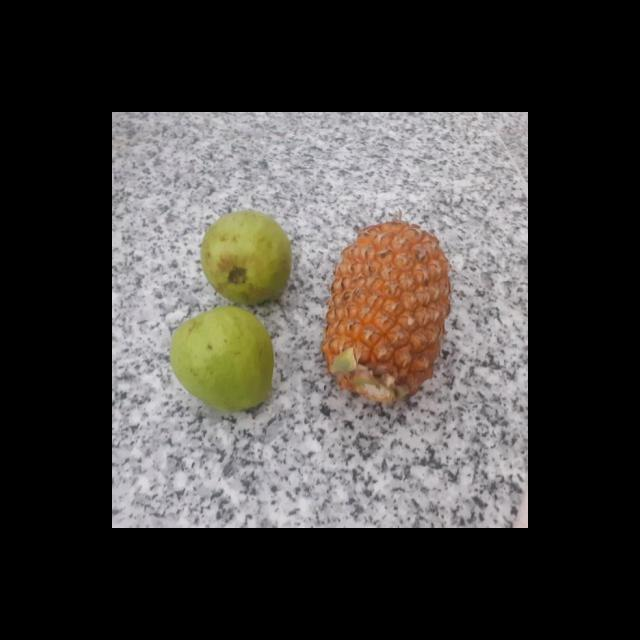guava: (166, 310, 274, 411), (196, 211, 292, 304)
pineapple: (323, 216, 450, 406)
